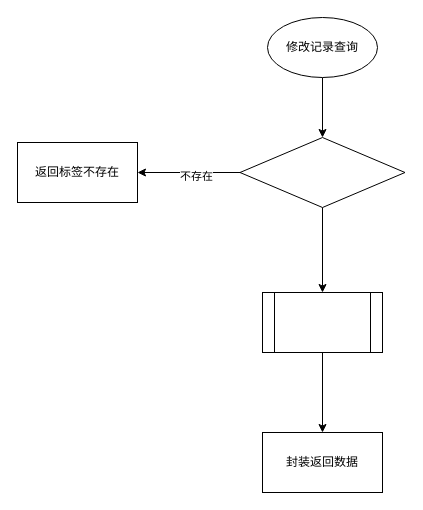
Some shapes in this 423 by 510 pixel diagram are drawn without their labels. Here are the shapes that lost their labels. From the top down, the centre of each, then its label:
the point at 322,172: 根据标签name和 标签id校验标签存在
the point at 322,322: mysql查询相关修改记录
